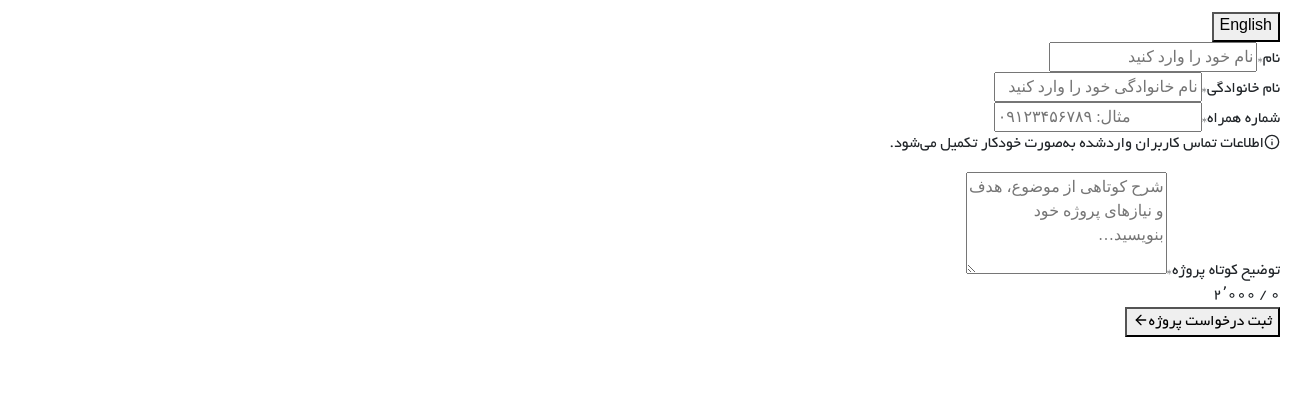
failed submissions preserve the draft and retry saves the same details
This screenshot has width=1292, height=394.
Type "آرمان" into the field labelled "نام". click: [1154, 57]
box: left=1050, top=42, right=1258, bottom=72
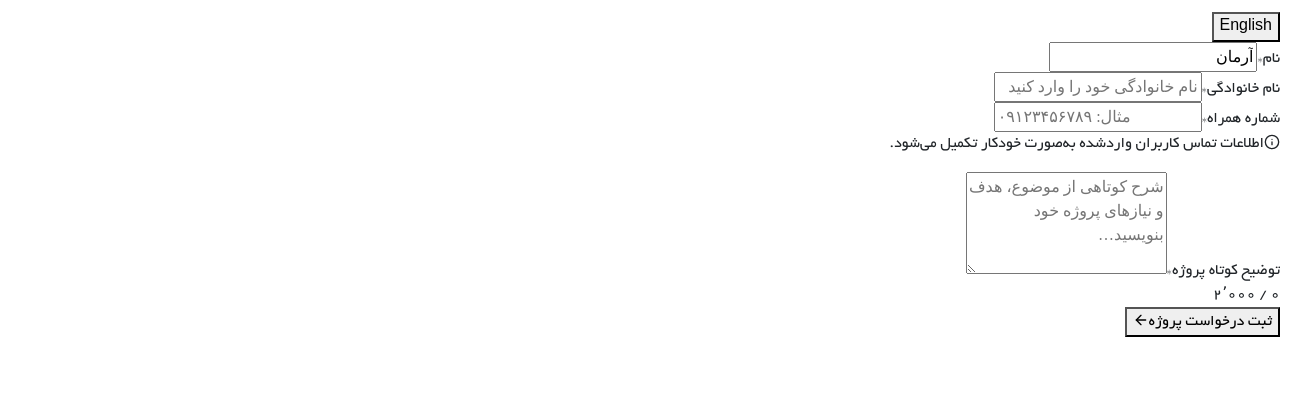
Type "اسدیان" into the field labelled "نام خانوادگی". click: [1098, 87]
box: left=994, top=72, right=1202, bottom=102
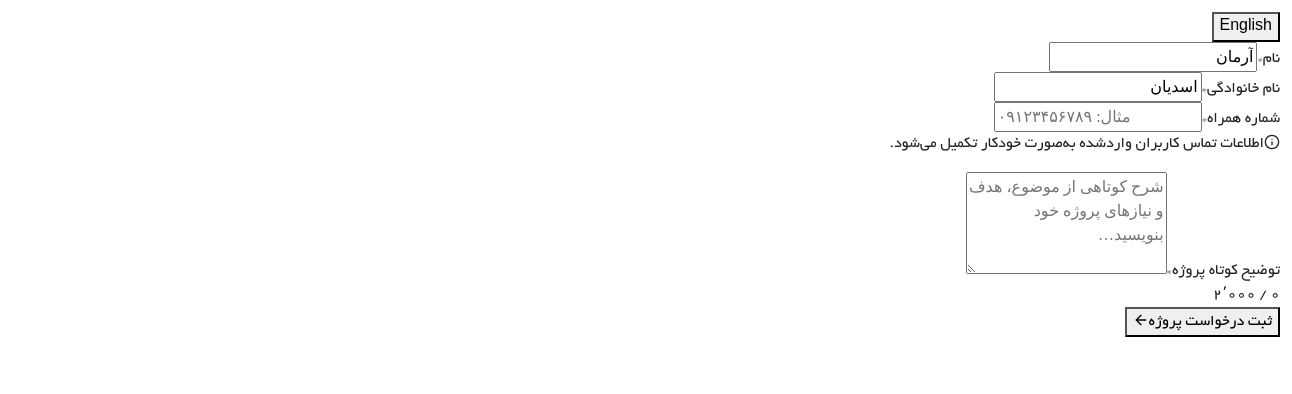
Type "09123456789" into the field labelled "شماره همراه". click: [1098, 117]
box: left=994, top=102, right=1202, bottom=132
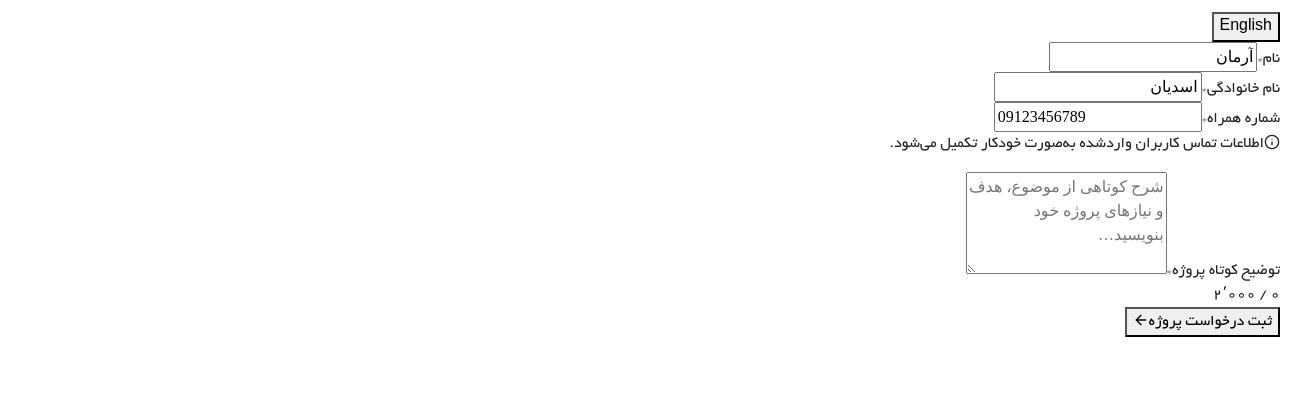
Type "تحلیل داده‌های پروژه پژوهشی" into the text box labelled "توضیح کوتاه پروژه". click: [1066, 223]
box: left=966, top=172, right=1167, bottom=274
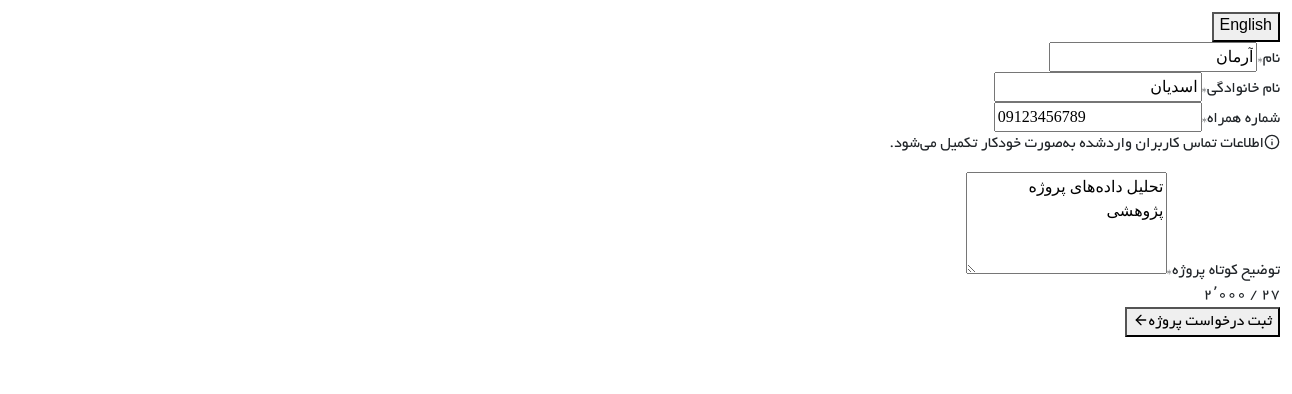
Submit the form, box left=890, top=42, right=1280, bottom=337
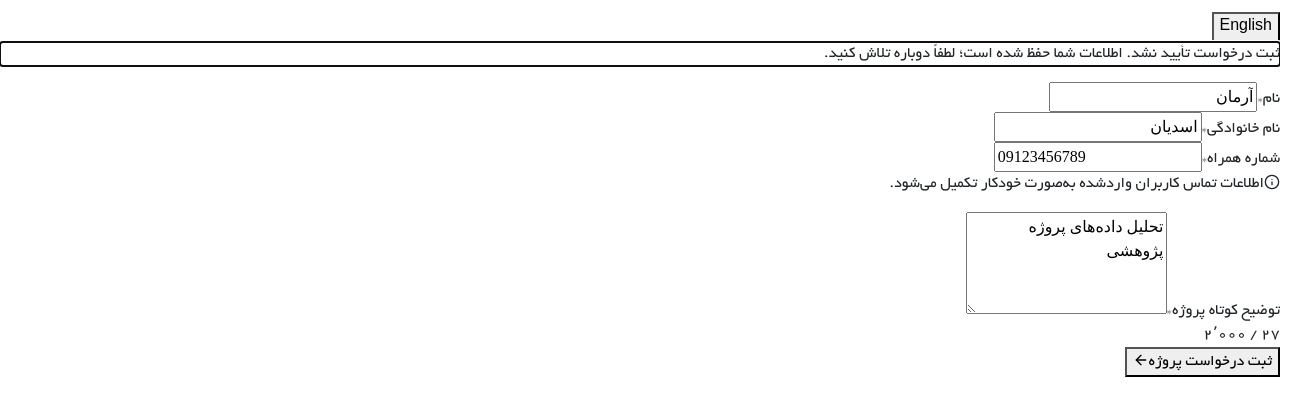
Expected: the message shows "اطلاعات شما حفظ شده است", left=824, top=46, right=1280, bottom=62
Submit the form, box left=824, top=46, right=1280, bottom=377
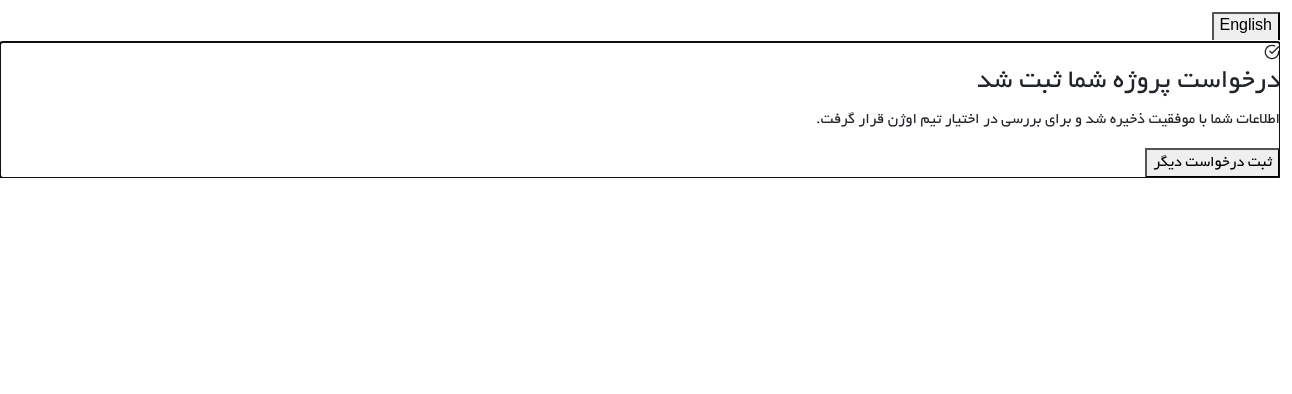
Expected: the message shows "درخواست پروژه شما ثبت شد", left=977, top=68, right=1280, bottom=96
